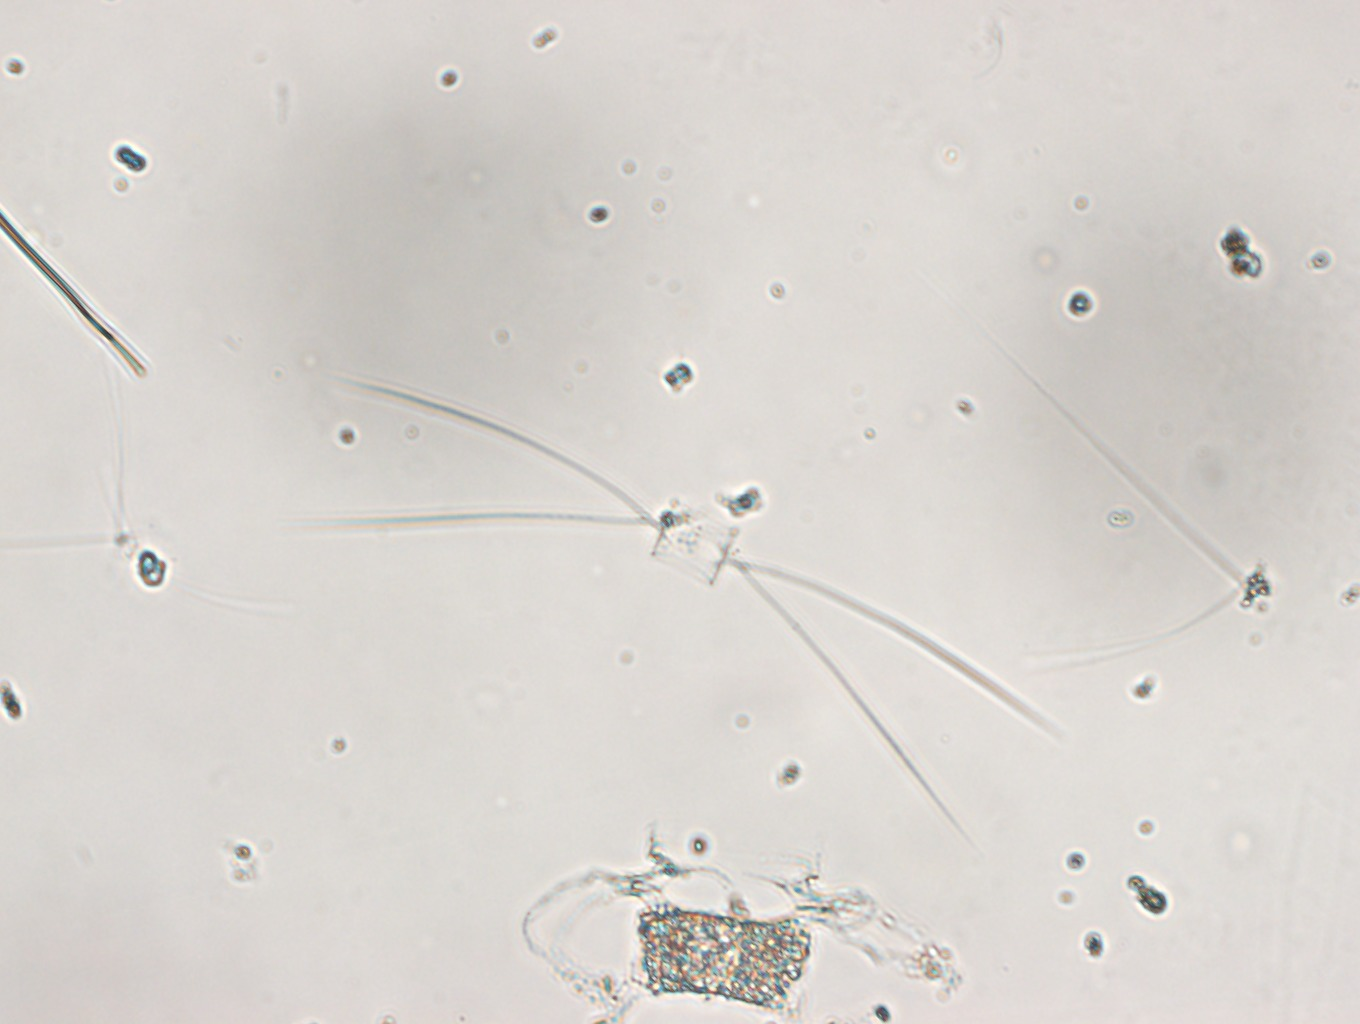chaetoceros: (345, 359, 1054, 803)
